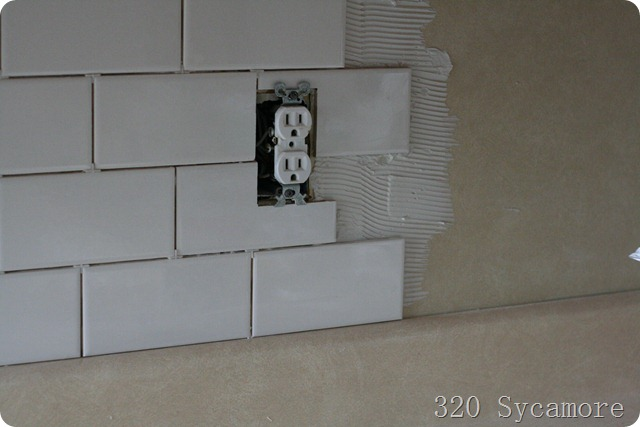outlet: (281, 110, 306, 137), (283, 156, 306, 183)
